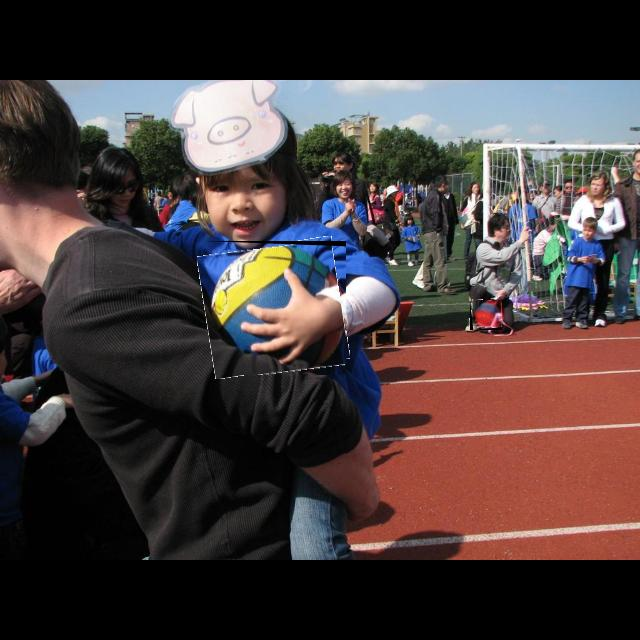Football: (202, 241, 346, 375), (470, 300, 502, 330)
